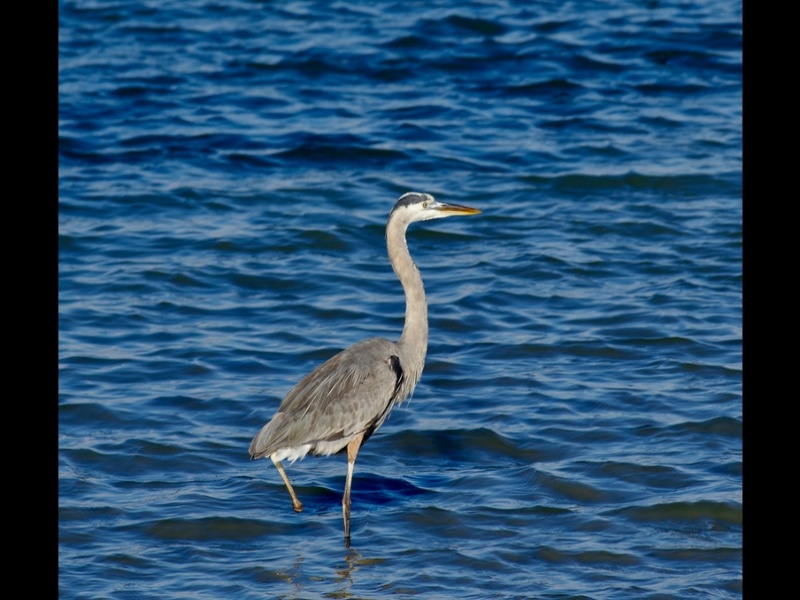heron: (247, 191, 484, 565)
